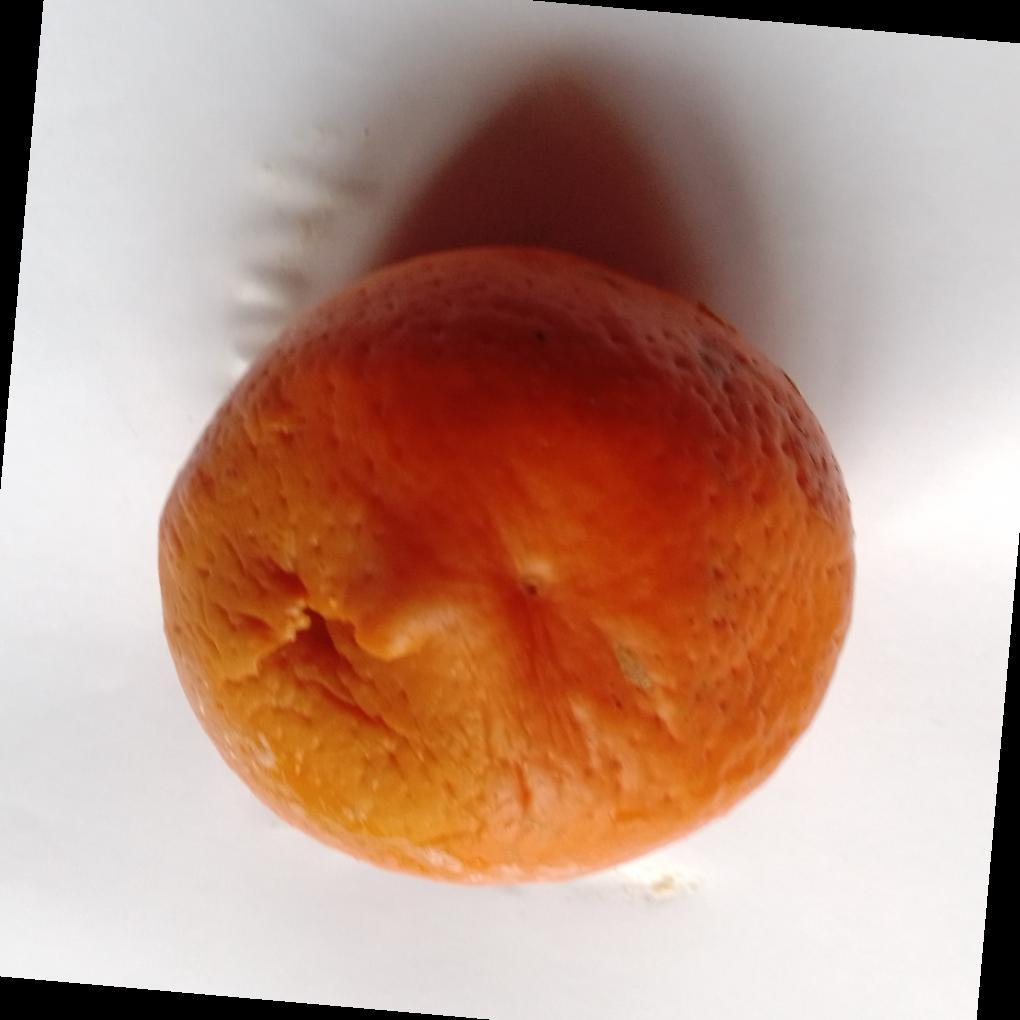FreshOrange: (157, 245, 859, 891)
